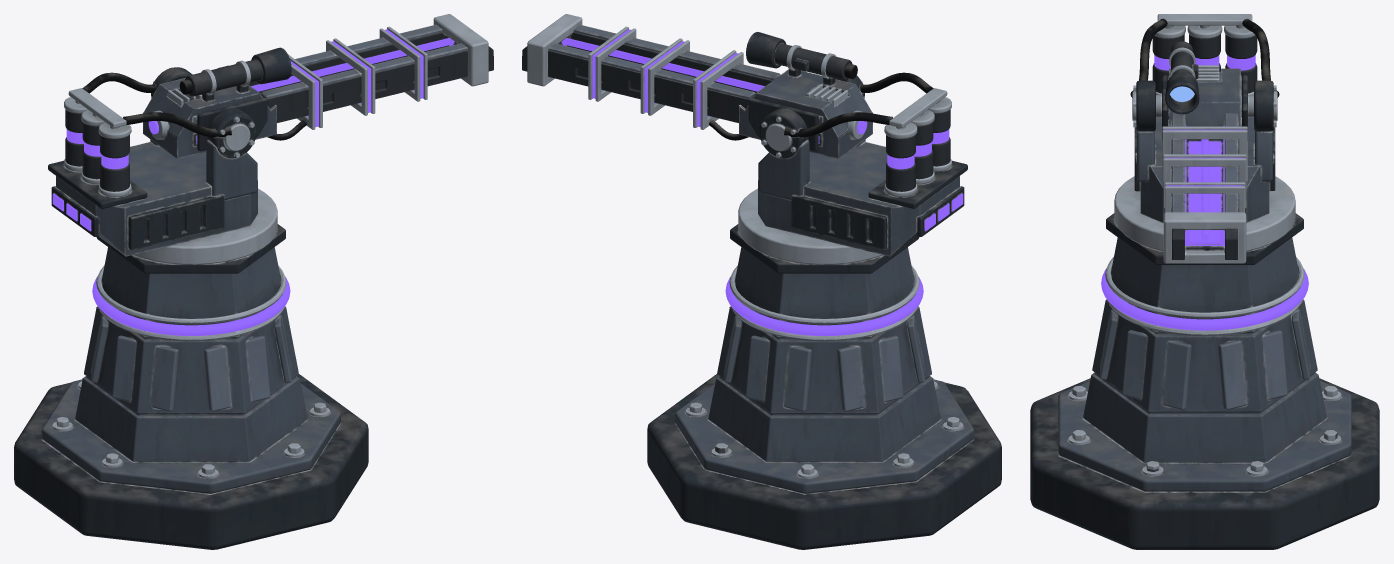
File: railgun.glb
3 views of the same model, side by side, from view 1: azimuth 30°, elevation 25°; view 2: azimuth 150°, elevation 25°; view 3: azimuth 270°, elevation 25° (orthographic). The views are drawn at different scales.
Parts seen in each view (by area): view 1: Base, Turret, Gun, Cradle; view 2: Base, Turret, Gun, Cradle; view 3: Base, Gun, Turret, Cradle.
Boxes of the visible parts, left/top/right/bottom form: Base: left=14, top=188, right=368, bottom=549; Turret: left=48, top=67, right=257, bottom=256; Gun: left=143, top=14, right=493, bottom=158; Cradle: left=197, top=98, right=267, bottom=151; Base: left=647, top=188, right=1001, bottom=549; Turret: left=758, top=72, right=967, bottom=256; Gun: left=522, top=14, right=872, bottom=158; Cradle: left=748, top=98, right=818, bottom=151; Base: left=1030, top=176, right=1379, bottom=549; Gun: left=1162, top=41, right=1247, bottom=263; Turret: left=1130, top=14, right=1279, bottom=223; Cradle: left=1156, top=75, right=1253, bottom=140.
Size of the model in its own units: 6.91 by 6.38 by 4.62.
Materials: 6 (4 with a texture image).
